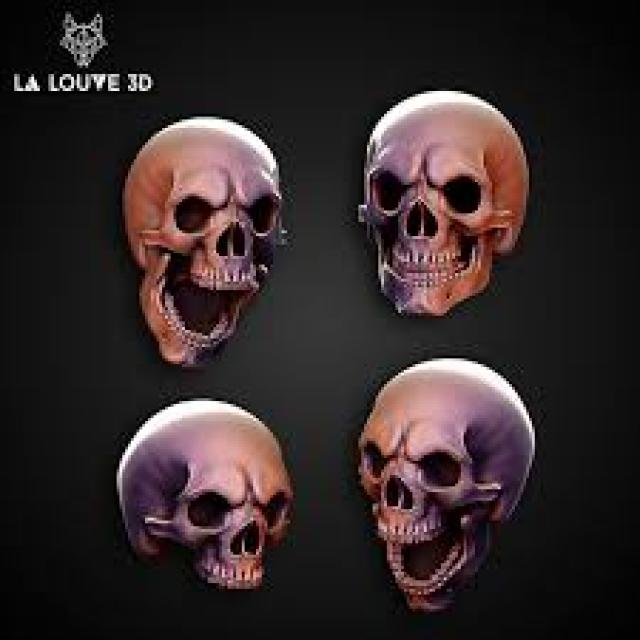skull: (346, 79, 527, 318)
